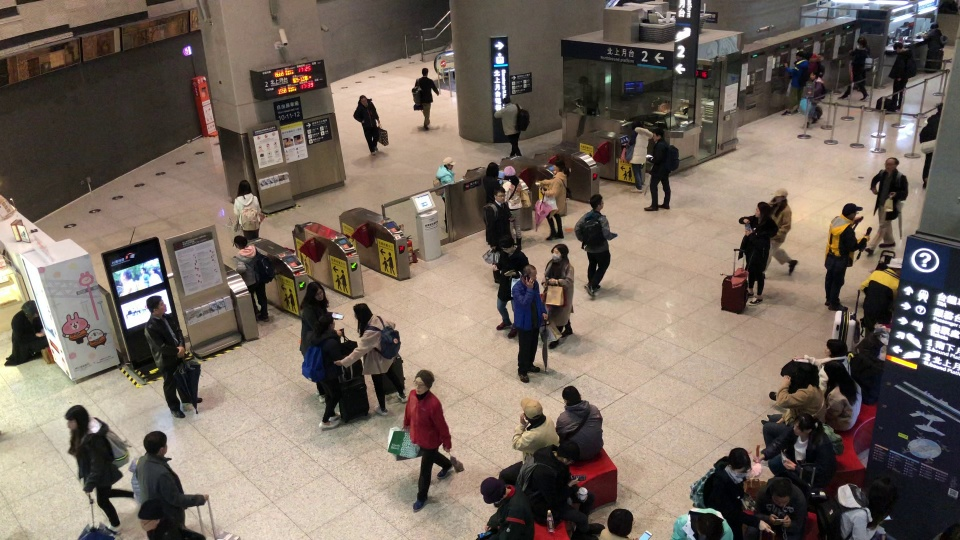person_head: (867, 475, 897, 511), (136, 497, 163, 532), (607, 507, 635, 537), (728, 446, 752, 479), (479, 476, 506, 503), (64, 405, 90, 432), (143, 430, 169, 457), (823, 360, 848, 388), (555, 440, 580, 465), (695, 515, 722, 538), (793, 412, 816, 436), (145, 294, 167, 318), (412, 369, 434, 393), (770, 479, 789, 506), (521, 396, 543, 419), (788, 368, 812, 389), (823, 338, 847, 358), (562, 384, 582, 404), (353, 302, 373, 321), (550, 243, 570, 262), (306, 281, 325, 300), (21, 299, 39, 319), (841, 202, 863, 218), (754, 200, 771, 218), (317, 313, 336, 329), (522, 263, 537, 282), (499, 235, 515, 252), (552, 158, 569, 173), (589, 193, 604, 210), (884, 156, 900, 171), (772, 187, 789, 201), (486, 161, 499, 179), (236, 179, 251, 194), (232, 234, 247, 249), (494, 185, 506, 202), (442, 155, 456, 169), (503, 165, 516, 179), (652, 127, 665, 141), (631, 119, 644, 131), (892, 41, 905, 52), (856, 37, 868, 48), (500, 94, 511, 105), (795, 50, 806, 60), (809, 70, 818, 79), (359, 94, 367, 104), (421, 67, 429, 76), (930, 21, 939, 29), (937, 102, 943, 114), (806, 51, 814, 59)
person_vbox: (65, 404, 134, 534), (516, 440, 604, 540), (333, 302, 408, 417), (688, 446, 775, 539), (129, 430, 209, 527), (143, 295, 203, 418), (401, 369, 452, 512), (759, 361, 861, 431), (756, 369, 827, 466), (757, 413, 844, 489), (497, 396, 560, 484), (768, 338, 852, 402), (299, 281, 342, 402), (816, 475, 897, 539), (823, 202, 870, 311), (742, 469, 813, 539), (301, 314, 343, 430), (574, 192, 617, 297), (864, 156, 909, 255), (736, 201, 778, 305), (489, 235, 530, 339), (512, 264, 548, 382), (555, 385, 604, 465), (231, 235, 276, 322), (477, 476, 535, 540), (540, 243, 574, 350), (761, 187, 798, 280), (482, 185, 513, 283), (643, 127, 679, 211), (535, 159, 572, 240), (4, 299, 48, 366), (136, 498, 206, 540), (432, 155, 466, 233), (502, 165, 531, 251), (836, 37, 873, 102), (492, 94, 530, 156), (622, 118, 653, 193), (919, 102, 943, 190), (887, 41, 917, 110), (670, 507, 734, 539), (780, 50, 809, 117), (233, 179, 262, 240), (411, 67, 439, 130), (353, 94, 380, 155), (801, 70, 827, 129), (482, 162, 500, 203), (921, 21, 947, 49), (806, 49, 825, 78)
